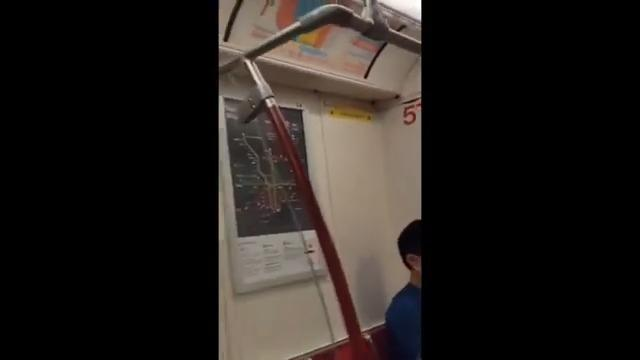non-violence: (384, 219, 422, 360)
